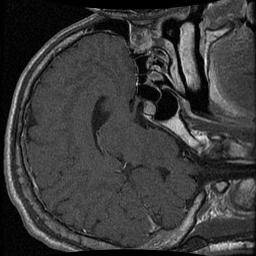pituitary tumour: (142, 99, 157, 116)
